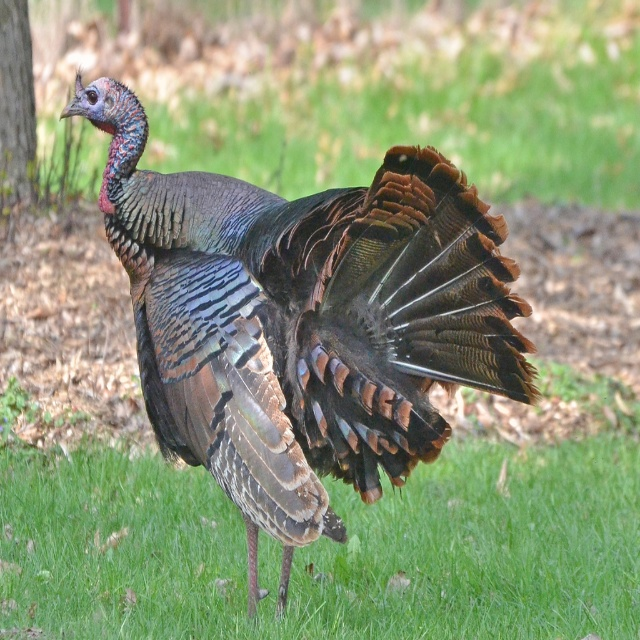Turkey: (59, 63, 544, 620)
